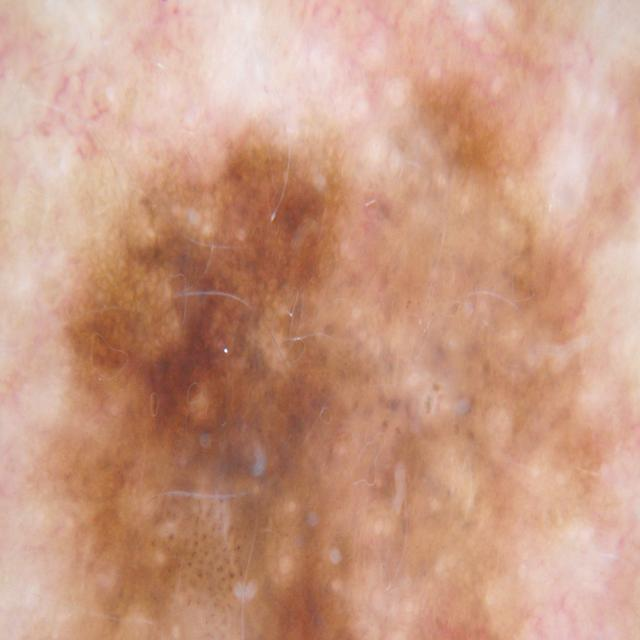Melanoma: (36, 96, 579, 640)
